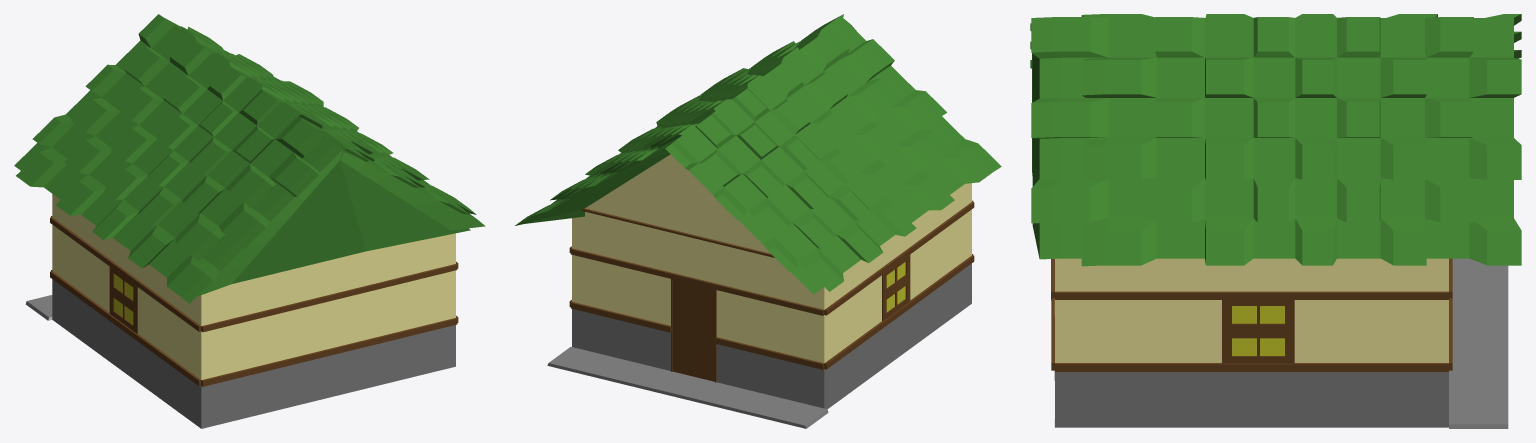
The model's file is casav2.fbx.
3 views of the same model, side by side, from view 1: azimuth 30°, elevation 25°; view 2: azimuth 150°, elevation 25°; view 3: azimuth 270°, elevation 25° (orthographic). The views are drawn at different scales.
Visible parts, largest first — view 1: T; view 2: T; view 3: T.
Boxes of the visible parts, bbox=[...] form: T: bbox=[14, 14, 485, 428]; T: bbox=[515, 14, 1001, 428]; T: bbox=[1030, 14, 1521, 428].
Bounding box in the file's own units: 658 × 519 × 689.
